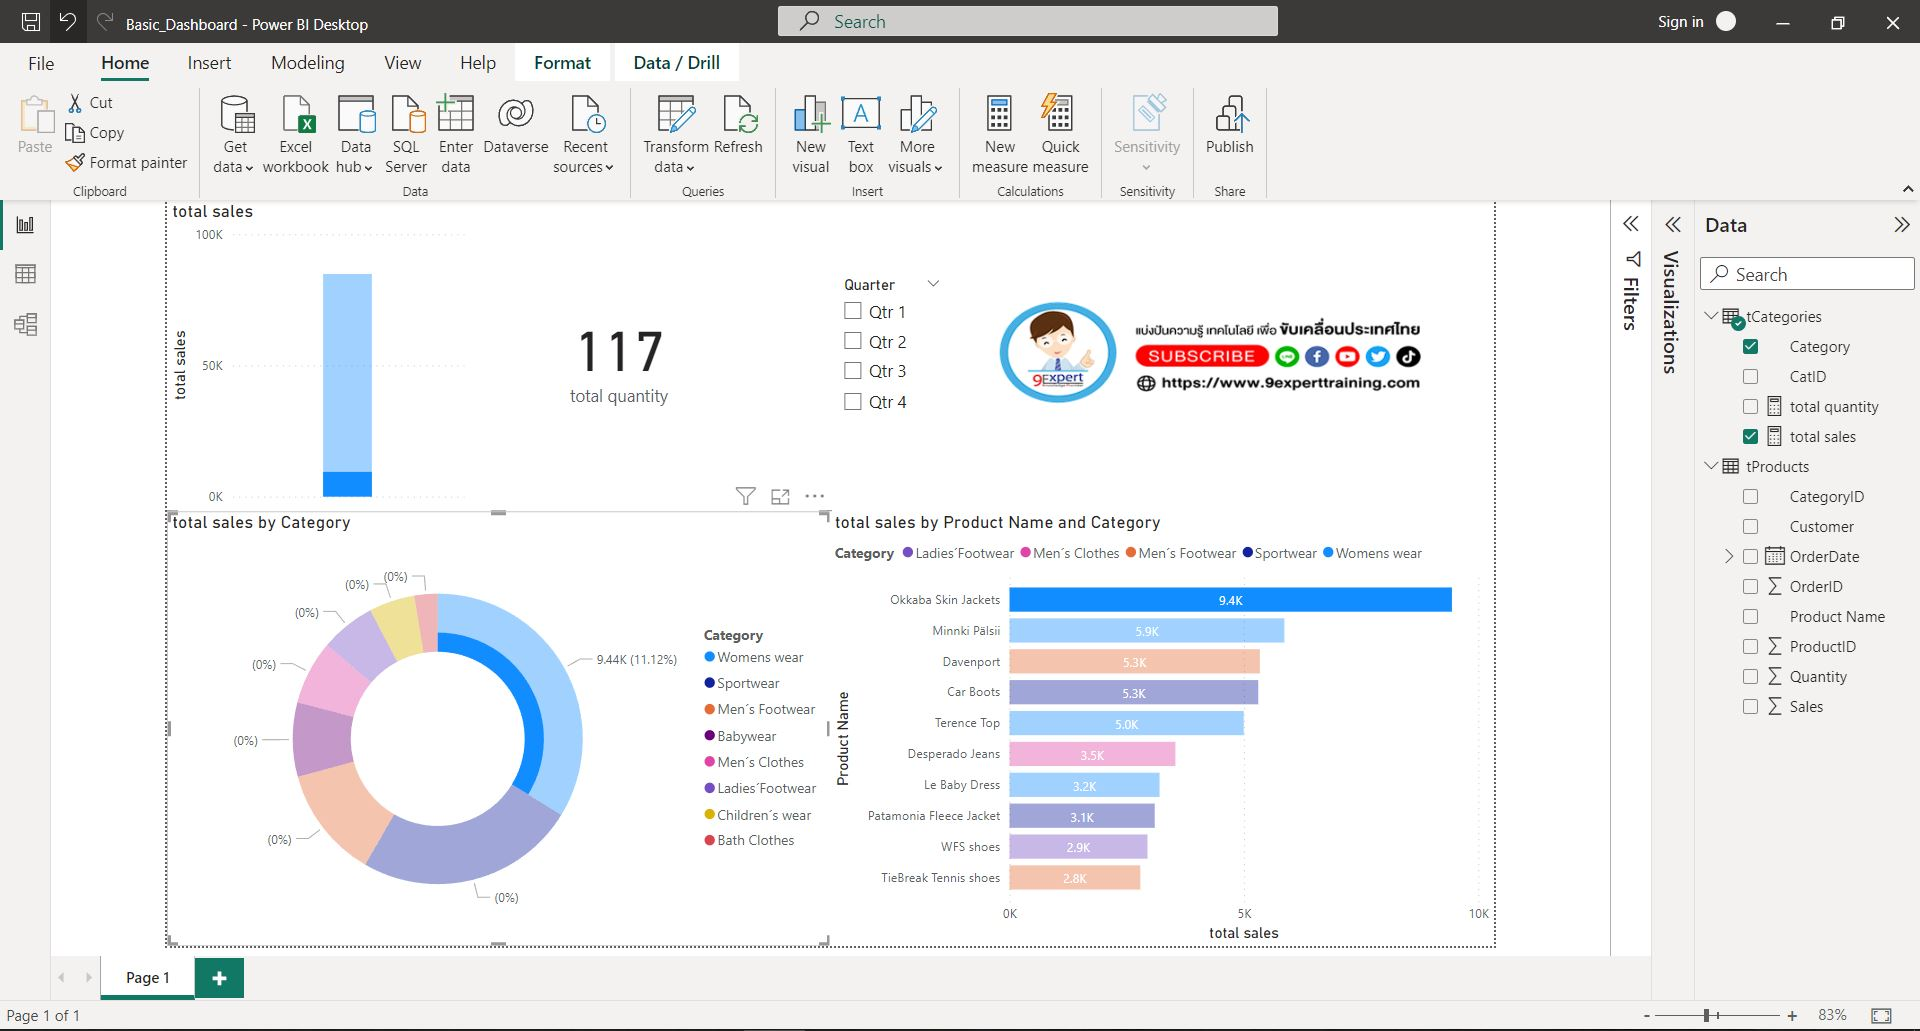

Layout of this report page (visuals, bound fields, positions):
{"tool":"powerbi","page":{"name":"Page 1","canvas":[1280,720],"ordinal":0},"visuals":[{"type":"columnChart","fields":{"Y":["tCategories.total sales"]},"box":[0,0,291.9,300.3],"z":0},{"type":"card","fields":{"Values":["tCategories.total quantity"]},"box":[291.9,0,288.2,300.3],"z":1000},{"type":"donutChart","fields":{"Y":["tCategories.total sales"],"Category":["tCategories.Category"]},"box":[0,300.5,640.8,419.9],"z":2000},{"type":"slicer","fields":{"Values":["tProducts.OrderDate.Variation.Date Hierarchy.Quarter"]},"box":[640.8,68.6,118,168.8],"z":3000},{"type":"barChart","fields":{"Category":["tProducts.Product Name"],"Y":["tCategories.total sales"],"Series":["tCategories.Category"]},"box":[639.5,300.5,640.8,419.9],"z":4000},{"type":"image","box":[759,69,521,169],"z":5000}]}

Visuals, with their boxes on the page's 1280x720 design canvas (x1, y1, x2, y2). These are canvas units, not pixel positions in the 1920x1031 screenshot, which may show the page scaled, cropped or inside an application window:
columnChart - tCategories.total sales: {"left": 0, "top": 0, "right": 292, "bottom": 300}
card - tCategories.total quantity: {"left": 292, "top": 0, "right": 580, "bottom": 300}
donutChart - tCategories.total sales x tCategories.Category: {"left": 0, "top": 300, "right": 641, "bottom": 720}
slicer - tProducts.OrderDate.Variation.Date Hierarchy.Quarter: {"left": 641, "top": 69, "right": 759, "bottom": 237}
barChart - tProducts.Product Name x tCategories.total sales: {"left": 640, "top": 300, "right": 1280, "bottom": 720}
image: {"left": 759, "top": 69, "right": 1280, "bottom": 238}
